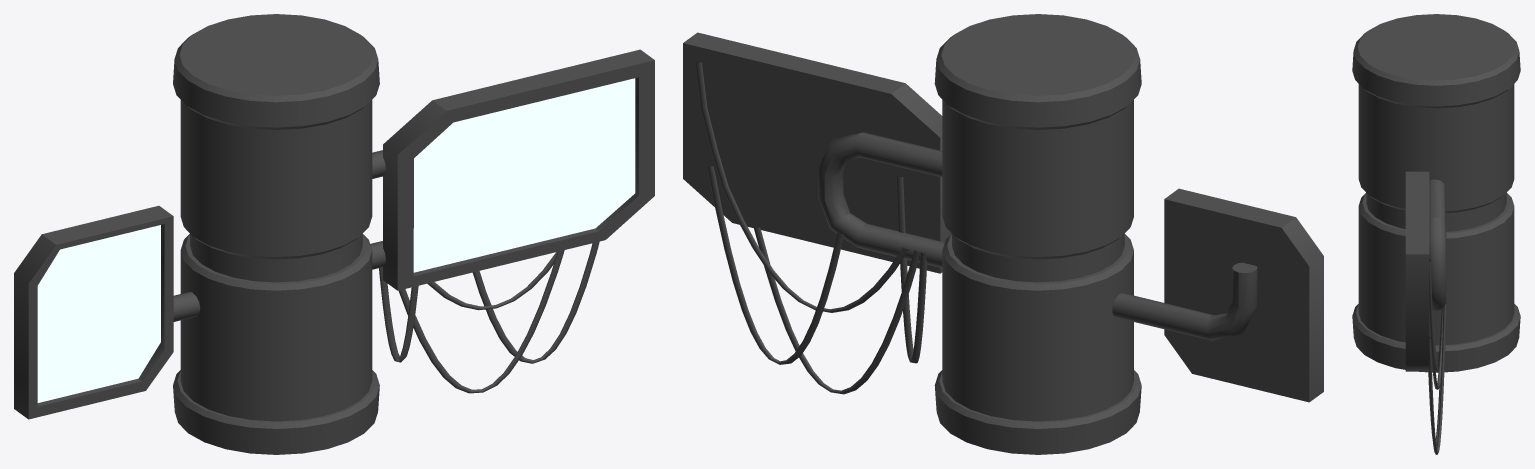
Rendered from Ekrany_03.fbx.
The picture shows the model from 3 angles, left to right: view 1: azimuth 30°, elevation 25°; view 2: azimuth 150°, elevation 25°; view 3: azimuth 270°, elevation 25°; orthographic projection. The views are drawn at different scales.
Visible parts, largest first — view 1: Vert.009; view 2: Vert.009; view 3: Vert.009.
Boxes of the visible parts, x1,y1,x2,y2 form: Vert.009: (14, 14, 654, 454); Vert.009: (683, 14, 1323, 454); Vert.009: (1352, 14, 1520, 454).
Bounding box in the file's own units: 3.78 × 2.23 × 1.08.
